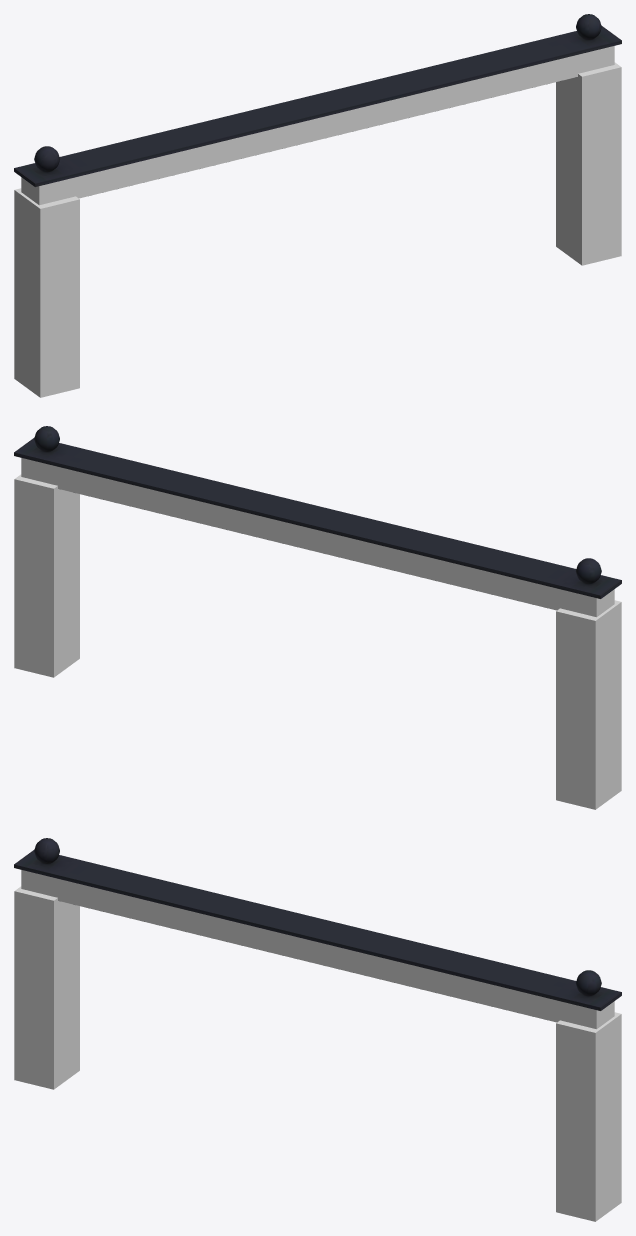
Rendered from gate_arch.glb.
3 renders of one model, top to bottom at view 1: azimuth 30°, elevation 25°; view 2: azimuth 150°, elevation 25°; view 3: azimuth 330°, elevation 25°, orthographic.
Visible parts, largest first — view 1: GateArch, COL_Beam, COL_PillarL, COL_PillarR; view 2: GateArch, COL_Beam, COL_PillarL, COL_PillarR; view 3: GateArch, COL_Beam, COL_PillarR, COL_PillarL.
Part boxes in pixels (x1,y1,x2,y2): GateArch: (14, 14, 621, 186); COL_Beam: (21, 46, 614, 205); COL_PillarL: (14, 188, 79, 397); COL_PillarR: (556, 62, 621, 265); GateArch: (14, 426, 621, 598); COL_Beam: (21, 458, 614, 617); COL_PillarL: (556, 600, 621, 809); COL_PillarR: (14, 474, 79, 677); GateArch: (14, 838, 621, 1010); COL_Beam: (21, 870, 614, 1029); COL_PillarR: (556, 1012, 621, 1221); COL_PillarL: (14, 886, 79, 1089).
Size of the model in its own units: 10.4 by 4 by 0.8001.
Materials: 2 (2 with a texture image).
